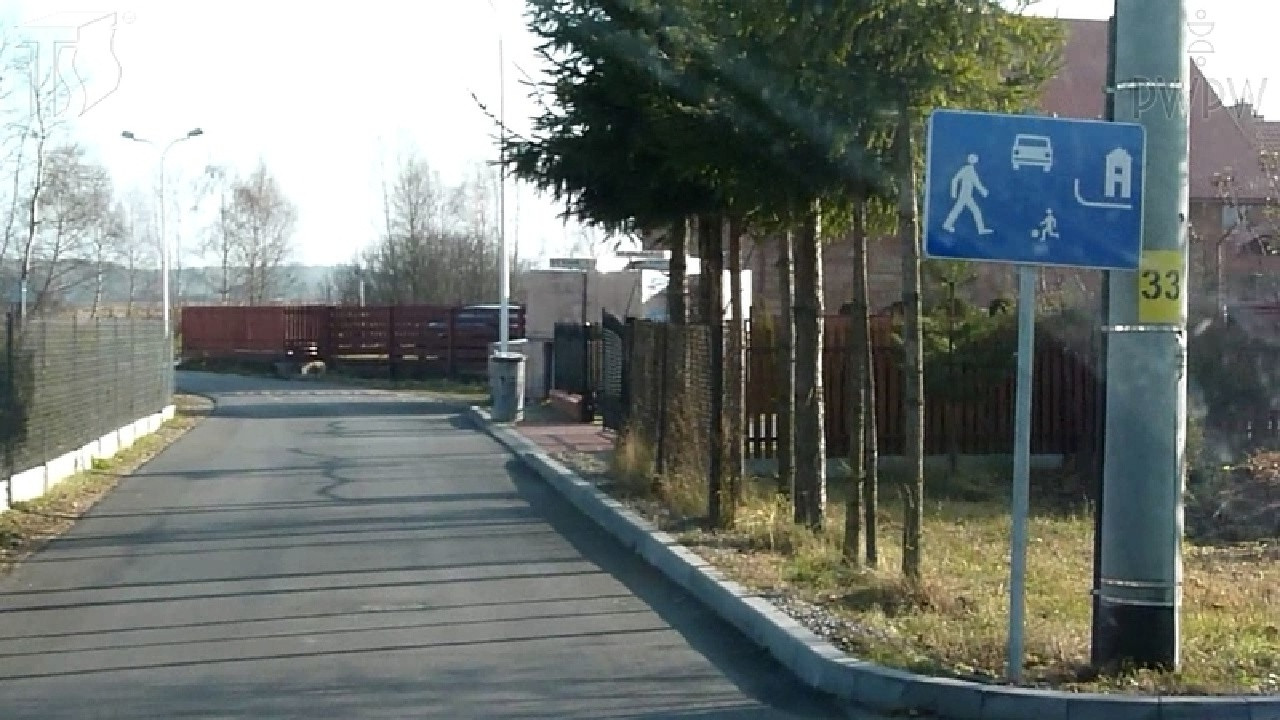D40: (925, 105, 1148, 270)
